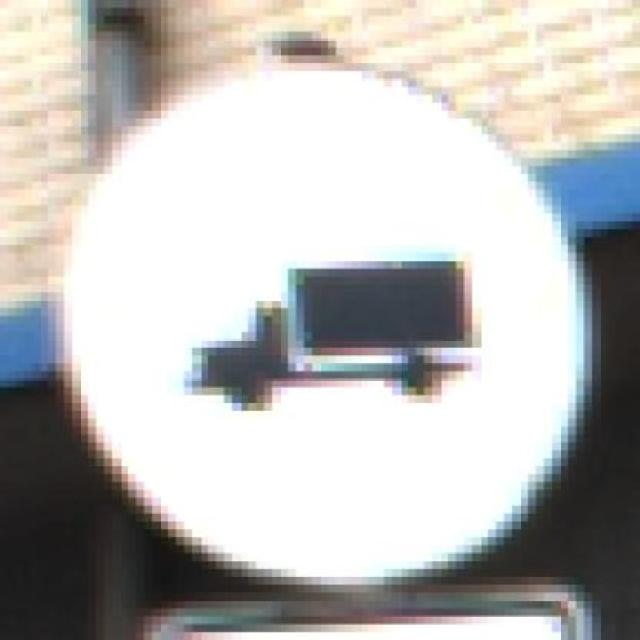Truck traffic is prohibited: (51, 31, 611, 600)
